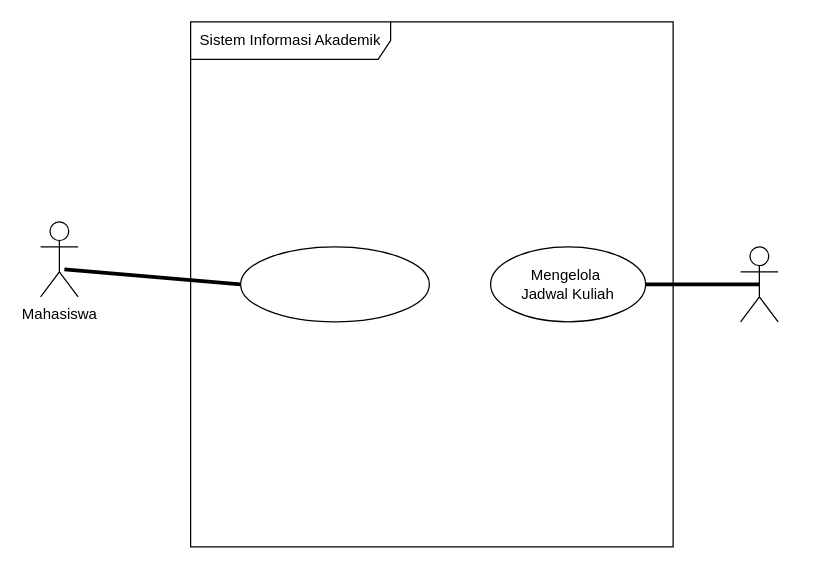
This 836x569 diagram has some shape labels left out. The shapes that lost their labels are listed below. From the top down, each one's centre as x and y in pixels, then its label:
point (334, 284): Melihat Jadwal Kuliah
point (758, 284): Admin Akademik
